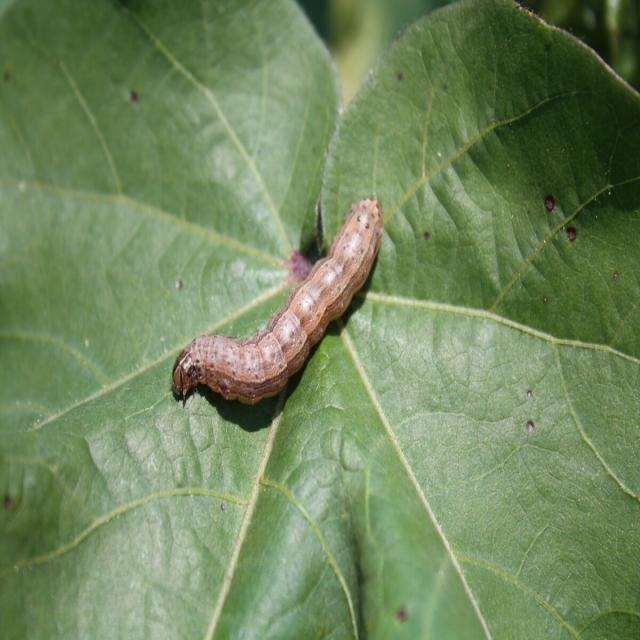armyworm: (171, 195, 383, 408)
